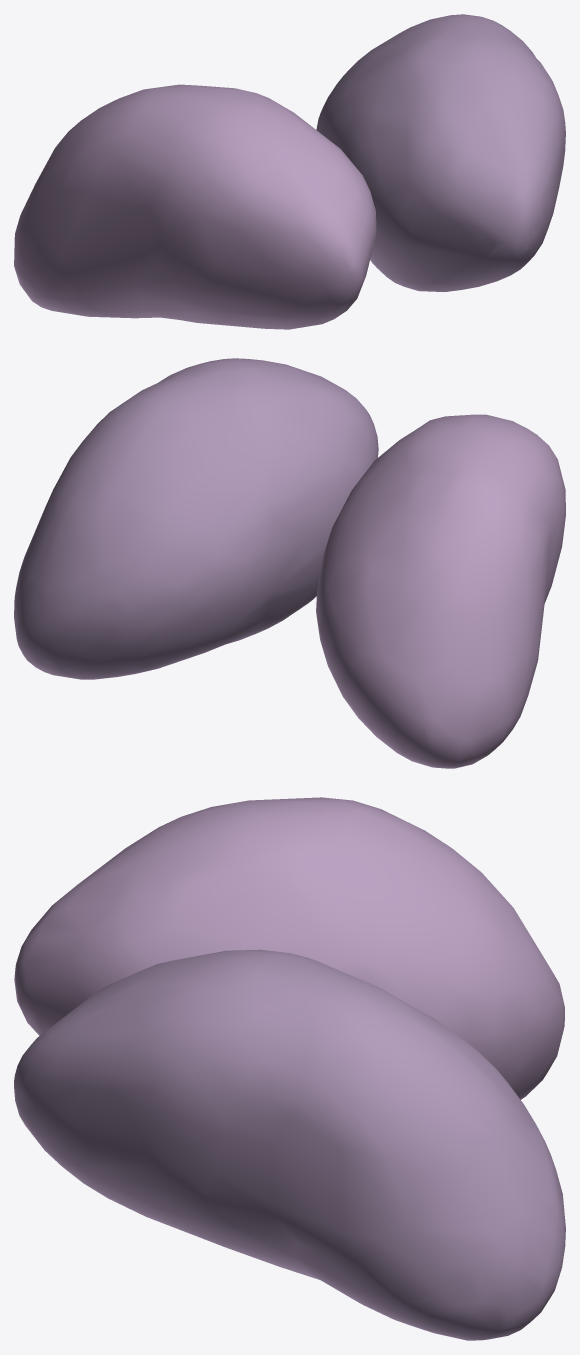
File: thalamus.glb
3 views of the same model, one above another, from view 1: azimuth 30°, elevation 25°; view 2: azimuth 150°, elevation 25°; view 3: azimuth 270°, elevation 25° (orthographic). The views are drawn at different scales.
Visible parts, largest first — view 1: FJ1827 Right thalamus, FJ1782 Left thalamus; view 2: FJ1782 Left thalamus, FJ1827 Right thalamus; view 3: FJ1782 Left thalamus, FJ1827 Right thalamus.
Boxes of the visible parts, box(x1,y1,x2,y2) form: FJ1827 Right thalamus: box(14, 84, 376, 329); FJ1782 Left thalamus: box(316, 14, 565, 291); FJ1782 Left thalamus: box(14, 358, 378, 679); FJ1827 Right thalamus: box(316, 414, 565, 768); FJ1782 Left thalamus: box(14, 949, 565, 1340); FJ1827 Right thalamus: box(14, 797, 564, 1099).
Bounding box in the file's own units: 0.048 × 0.0237 × 0.0366.
